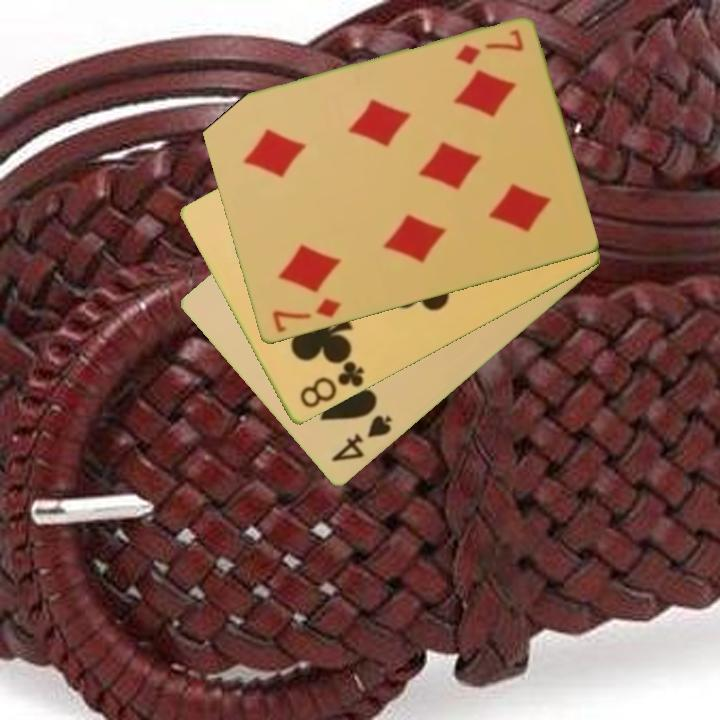4s: (327, 411, 395, 466)
7d: (268, 295, 344, 337), (450, 26, 526, 68)
8c: (296, 355, 367, 412)
